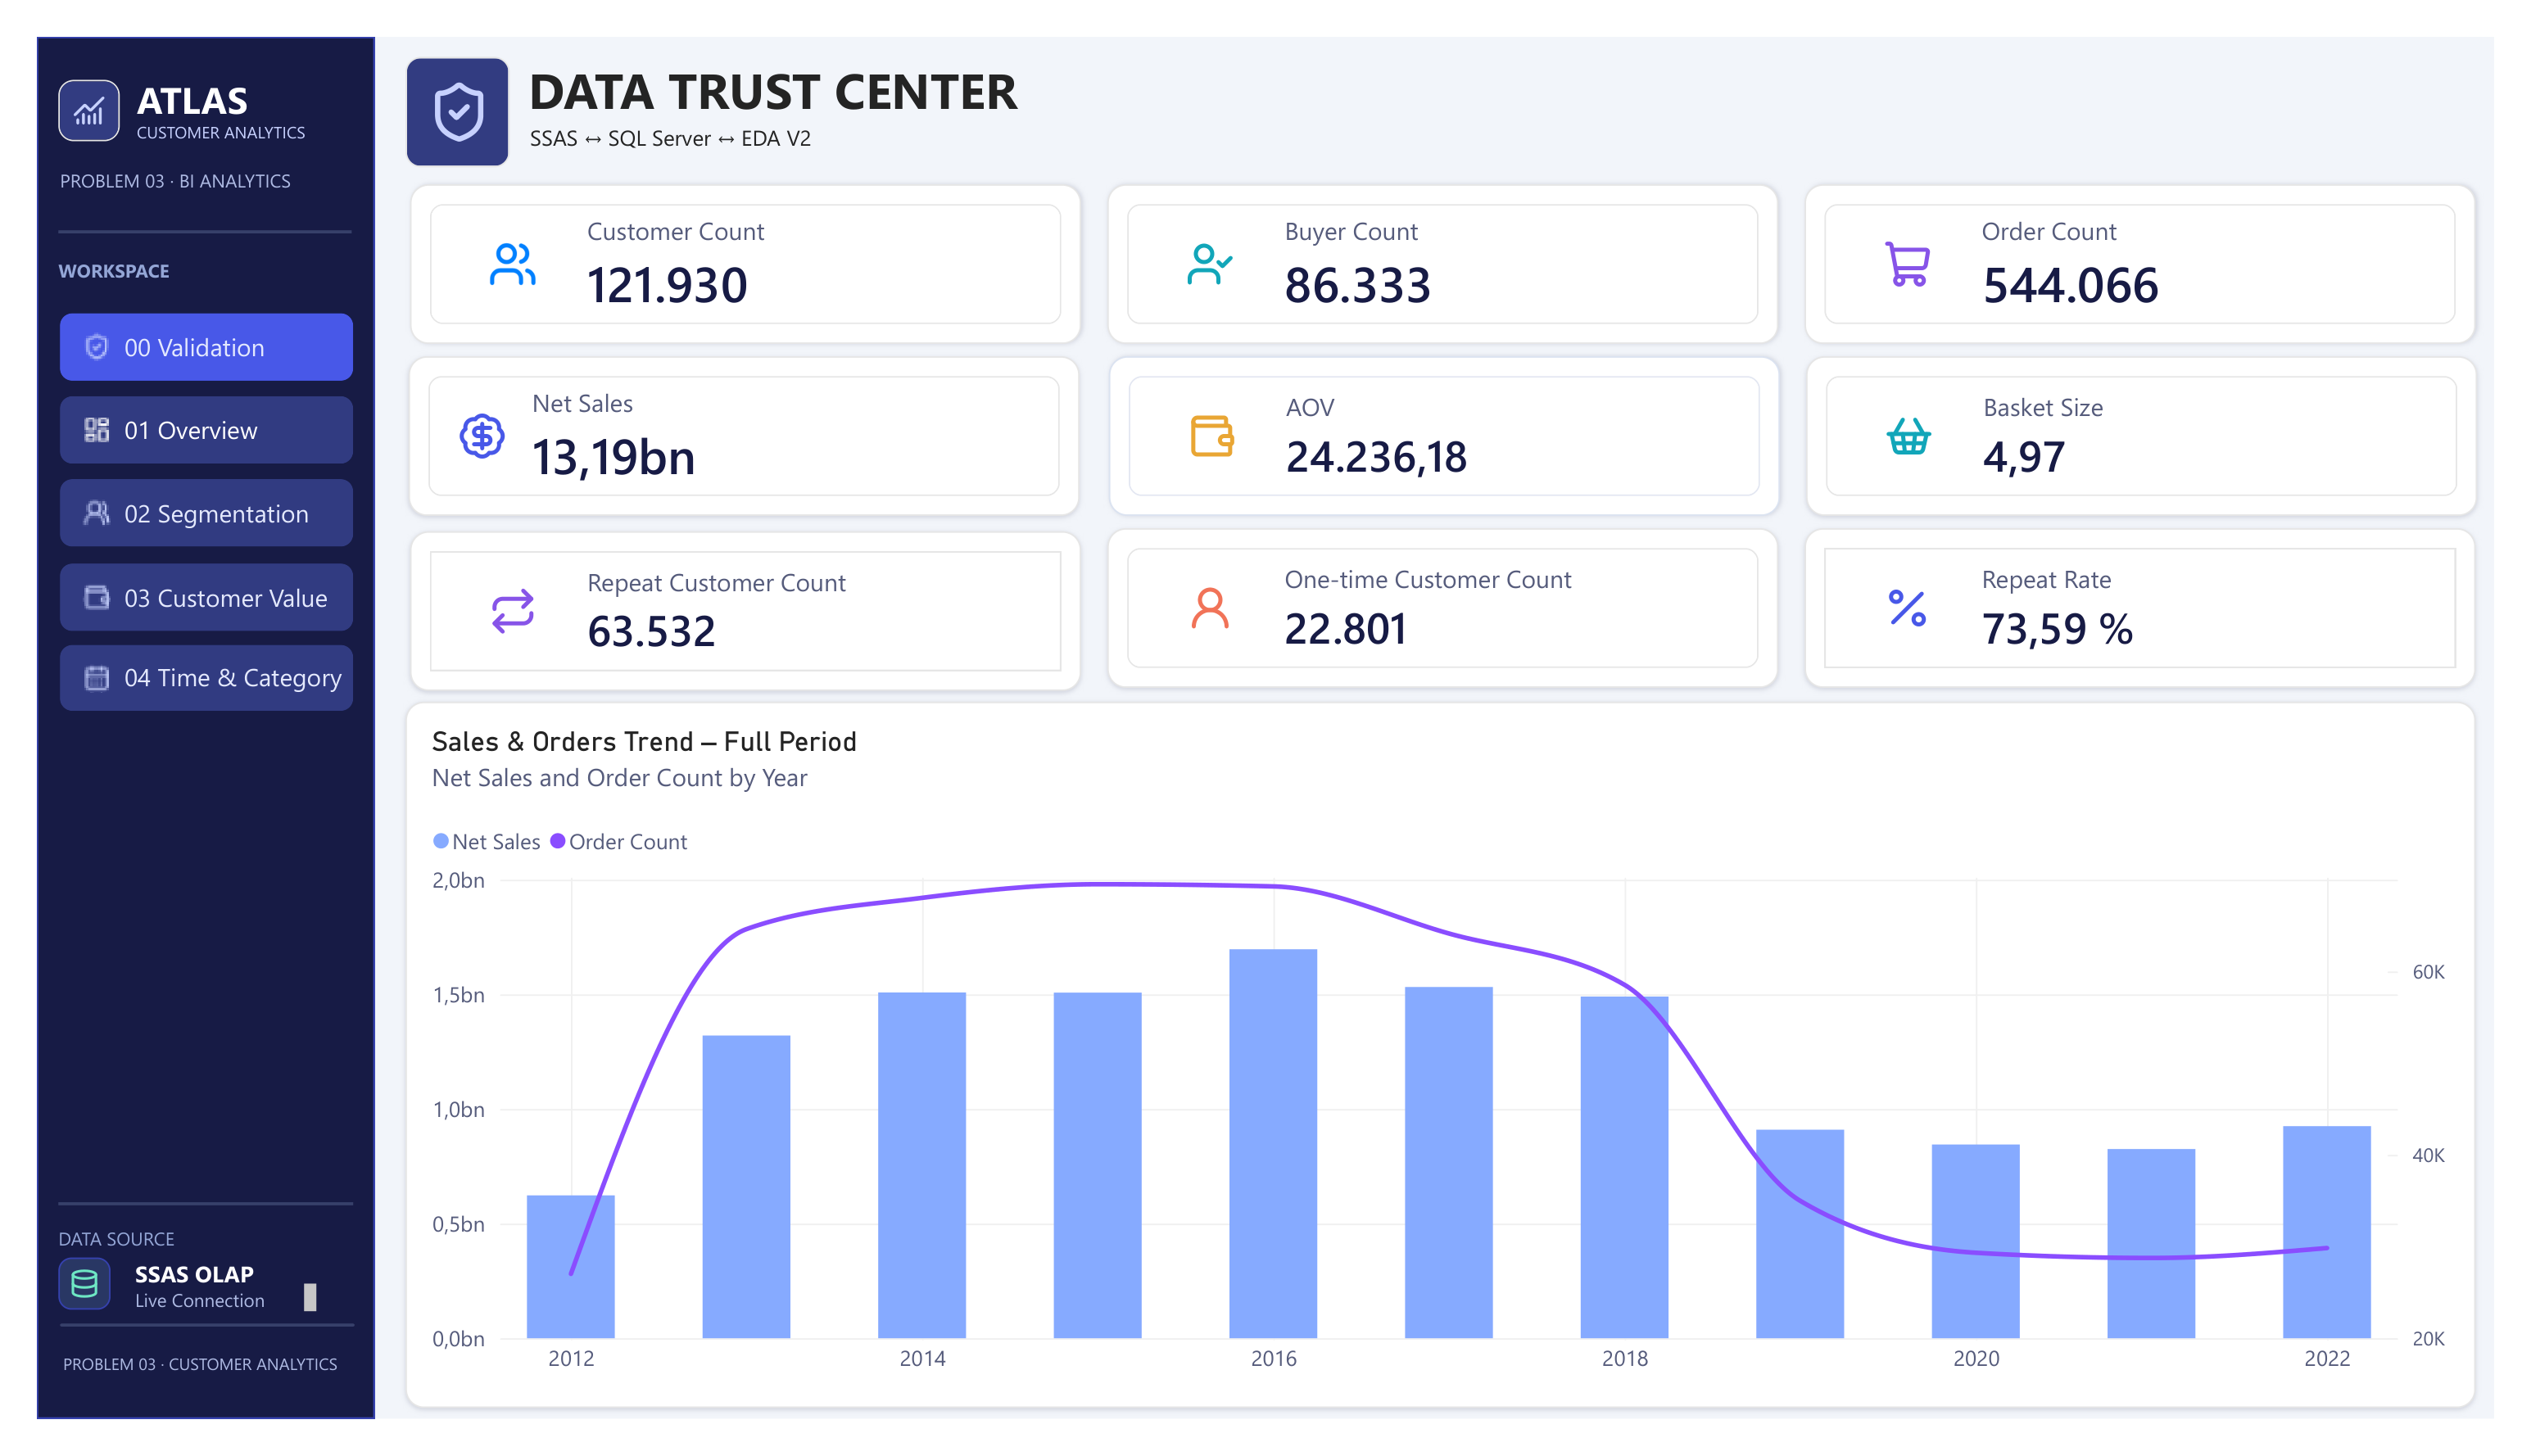

What the dashboard file says about the page in this screenshot:
{"tool":"powerbi","page":{"name":"00_Validation","canvas":[1600,900],"ordinal":0},"visuals":[{"type":"shape","box":[0,0,220,900],"z":0,"group":"g1"},{"type":"cardVisual","fields":{"Data":["V FACT CUSTOMER ANALYTICS.Repeat Customer Count"]},"box":[242.7,322,437,104],"z":0},{"type":"textbox","box":[65.5,24.3,134.3,32],"z":1000,"group":"g1"},{"type":"cardVisual","fields":{"Data":["V FACT CUSTOMER ANALYTICS.One-time Customer Count"]},"box":[697,320.5,437,104],"z":1000},{"type":"actionButton","box":[15.1,180,190.9,44.1],"z":2000,"group":"g1"},{"type":"cardVisual","fields":{"Data":["Measures.Repeat Rate"]},"box":[1151.4,320.5,437,104],"z":2000},{"type":"group","id":"g1","title":"Group 1","box":[0,0,220,900],"z":3000},{"type":"actionButton","box":[14.7,395.7,191.7,42.9],"z":3000,"group":"g1"},{"type":"group","id":"g2","title":"Group 2","box":[240,11.7,758.3,73.3],"z":4000},{"type":"actionButton","box":[15.1,288.3,190.9,44.1],"z":4000,"group":"g1"},{"type":"cardVisual","fields":{"Data":["V FACT CUSTOMER ANALYTICS.Customer Count"]},"box":[242.7,96.2,437,104],"z":5000},{"type":"actionButton","box":[15.1,342.5,190.9,44.1],"z":5000,"group":"g1"},{"type":"cardVisual","fields":{"Data":["V FACT CUSTOMER ANALYTICS.Buyer Count"]},"box":[697,95.9,437,104],"z":6000},{"type":"actionButton","box":[15.1,234.2,190.9,44.1],"z":6000,"group":"g1"},{"type":"shape","box":[14.3,28,40,40],"z":7000,"group":"g1"},{"type":"cardVisual","fields":{"Data":["V FACT ORDER OFFICIAL.Order Count"]},"box":[1151.4,95.8,437,104],"z":7000},{"type":"image","box":[23.3,37,22,22],"z":8000,"group":"g1"},{"type":"cardVisual","fields":{"Data":["V FACT SALES LINE OFFICIAL.Net Sales"]},"box":[242,208,437,104],"z":8000},{"type":"textbox","box":[64.6,51.4,135,21.4],"z":9000,"group":"g1"},{"type":"cardVisual","fields":{"Data":["V FACT CUSTOMER MONTHLY OFFICIAL.AOV"]},"box":[697.5,207.7,437,104],"z":9000},{"type":"textbox","box":[319.8,11.7,653.4,53.8],"z":10000,"group":"g2"},{"type":"textbox","box":[14.7,82.7,191.8,22.7],"z":10000,"group":"g1"},{"type":"cardVisual","fields":{"Data":["Measures.Basket Size"]},"box":[1151.9,207.6,437,104],"z":10000},{"type":"textbox","box":[321,55.8,677.3,22.2],"z":11000,"group":"g2"},{"type":"shape","box":[14.3,120,190.9,13.6],"z":11000,"group":"g1"},{"type":"lineClusteredColumnComboChart","title":"Sales & Orders Trend – Full Period","fields":{"Category":["Date.Year","Date.Year Quarter"],"Y":["V FACT SALES LINE OFFICIAL.Net Sales"],"Y2":["V FACT ORDER OFFICIAL.Order Count"]},"box":[240,433.3,1348.3,460],"z":11000},{"type":"shape","box":[240,12.4,68.1,72.6],"z":12000,"group":"g2"},{"type":"textbox","box":[14.3,142,186,20],"z":12000,"group":"g1"},{"type":"image","box":[253.6,27,42.3,43.4],"z":13000,"group":"g2"},{"type":"shape","box":[14.3,750,192,20],"z":13000,"group":"g1"},{"type":"textbox","box":[14.3,772,170,20],"z":14000,"group":"g1"},{"type":"shape","box":[14.3,795,34,34],"z":15000,"group":"g1"},{"type":"image","box":[21.3,802,20,20],"z":16000,"group":"g1"},{"type":"textbox","box":[63.9,795,120,26.7],"z":17000,"group":"g1"},{"type":"textbox","box":[63.9,811.7,118.3,18.3],"z":18000,"group":"g1"},{"type":"shape","box":[15,833.3,191.7,11.7],"z":19000,"group":"g1"},{"type":"textbox","box":[16.7,853.3,190,20],"z":20000,"group":"g1"}]}

Visuals, with their boxes on the page's 1600x900 design canvas (x1, y1, x2, y2). These are canvas units, not pixel positions in the 2531x1456 screenshot, which may show the page scaled, cropped or inside an application window:
shape: left=0, top=0, right=220, bottom=900
cardVisual - V FACT CUSTOMER ANALYTICS.Repeat Customer Count: left=243, top=322, right=680, bottom=426
textbox: left=66, top=24, right=200, bottom=56
cardVisual - V FACT CUSTOMER ANALYTICS.One-time Customer Count: left=697, top=320, right=1134, bottom=424
actionButton: left=15, top=180, right=206, bottom=224
cardVisual - Measures.Repeat Rate: left=1151, top=320, right=1588, bottom=424
"Group 1" group: left=0, top=0, right=220, bottom=900
actionButton: left=15, top=396, right=206, bottom=439
"Group 2" group: left=240, top=12, right=998, bottom=85
actionButton: left=15, top=288, right=206, bottom=332
cardVisual - V FACT CUSTOMER ANALYTICS.Customer Count: left=243, top=96, right=680, bottom=200
actionButton: left=15, top=342, right=206, bottom=387
cardVisual - V FACT CUSTOMER ANALYTICS.Buyer Count: left=697, top=96, right=1134, bottom=200
actionButton: left=15, top=234, right=206, bottom=278
shape: left=14, top=28, right=54, bottom=68
cardVisual - V FACT ORDER OFFICIAL.Order Count: left=1151, top=96, right=1588, bottom=200
image: left=23, top=37, right=45, bottom=59
cardVisual - V FACT SALES LINE OFFICIAL.Net Sales: left=242, top=208, right=679, bottom=312
textbox: left=65, top=51, right=200, bottom=73
cardVisual - V FACT CUSTOMER MONTHLY OFFICIAL.AOV: left=698, top=208, right=1134, bottom=312
textbox: left=320, top=12, right=973, bottom=66
textbox: left=15, top=83, right=206, bottom=105
cardVisual - Measures.Basket Size: left=1152, top=208, right=1589, bottom=312
textbox: left=321, top=56, right=998, bottom=78
shape: left=14, top=120, right=205, bottom=134
"Sales & Orders Trend – Full Period" lineClusteredColumnComboChart: left=240, top=433, right=1588, bottom=893
shape: left=240, top=12, right=308, bottom=85
textbox: left=14, top=142, right=200, bottom=162
image: left=254, top=27, right=296, bottom=70
shape: left=14, top=750, right=206, bottom=770
textbox: left=14, top=772, right=184, bottom=792
shape: left=14, top=795, right=48, bottom=829
image: left=21, top=802, right=41, bottom=822
textbox: left=64, top=795, right=184, bottom=822
textbox: left=64, top=812, right=182, bottom=830
shape: left=15, top=833, right=207, bottom=845
textbox: left=17, top=853, right=207, bottom=873
